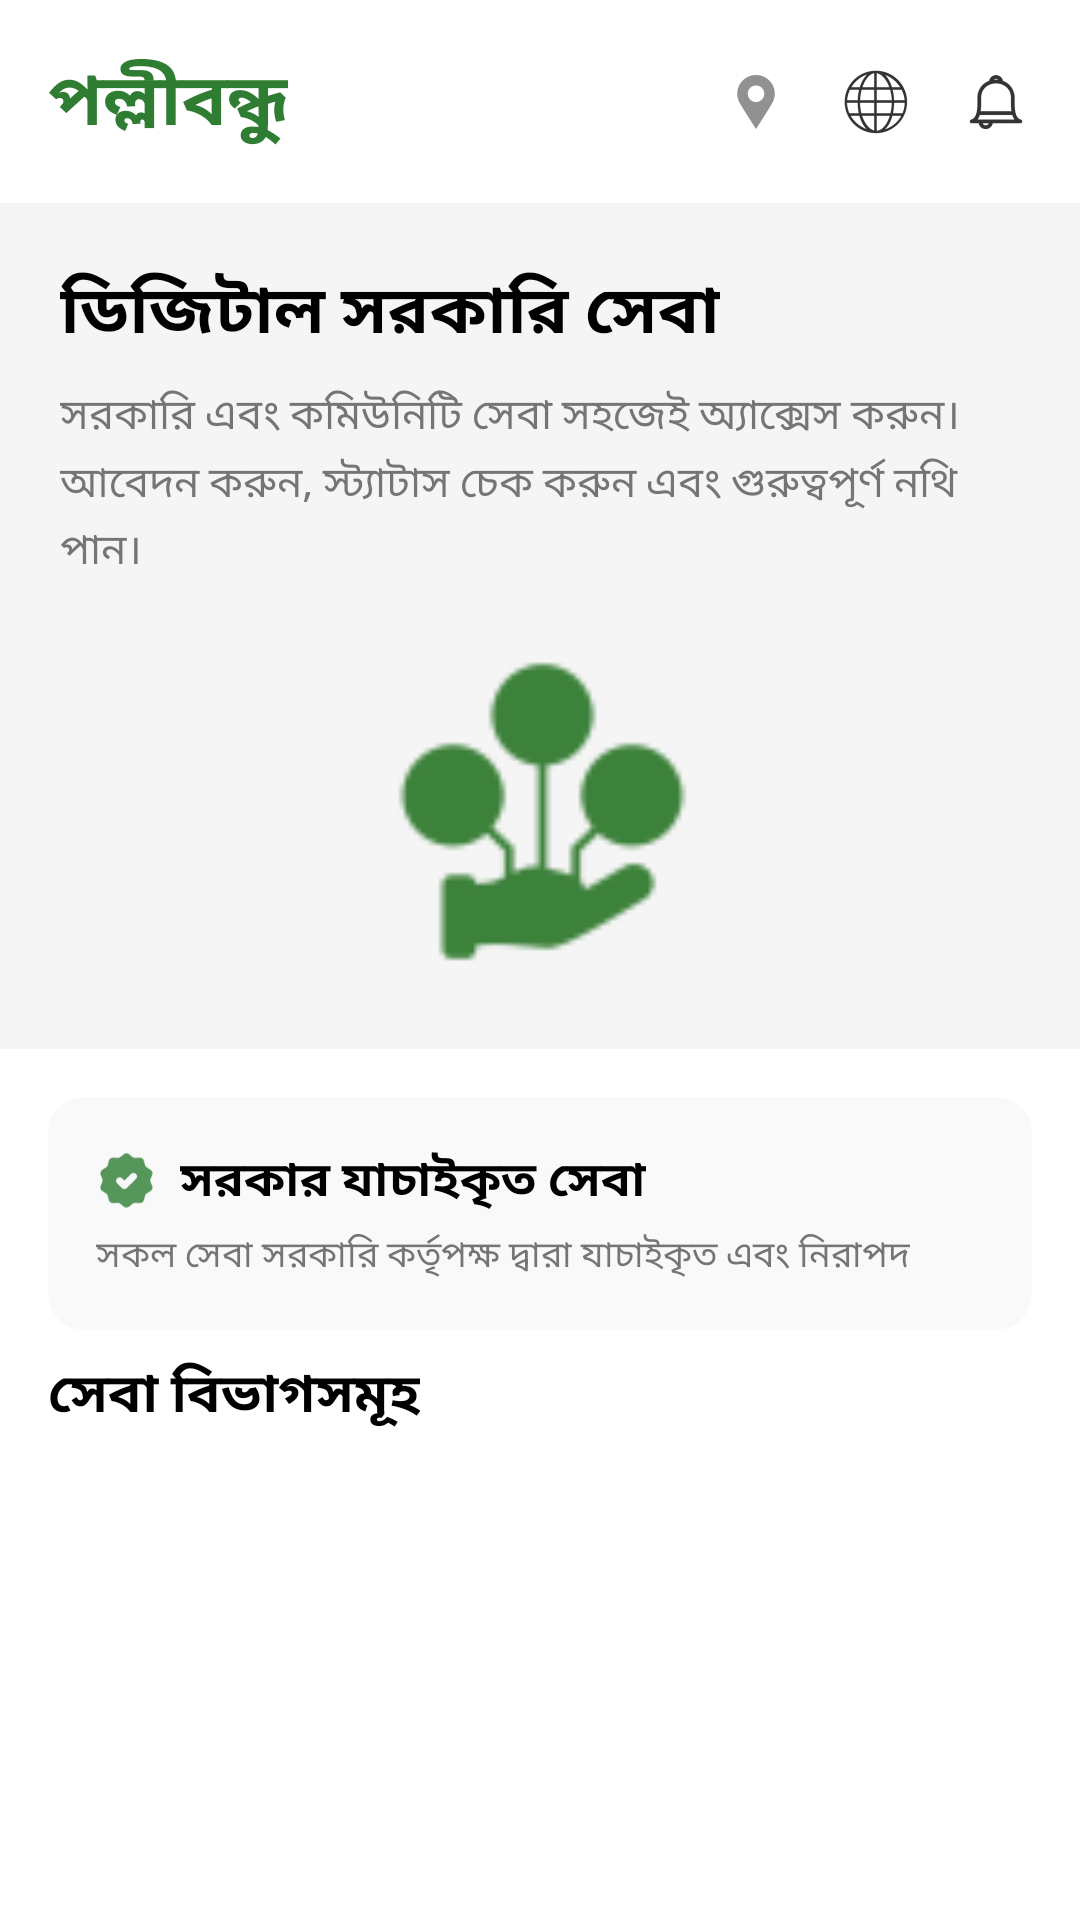

Screen size 1080×1920. Icon name, then its center in pixels as point (x, y):
language: point (875, 102)
location on: point (756, 102)
notifications: point (996, 102)
service: point (542, 811)
verified: point (126, 1180)
